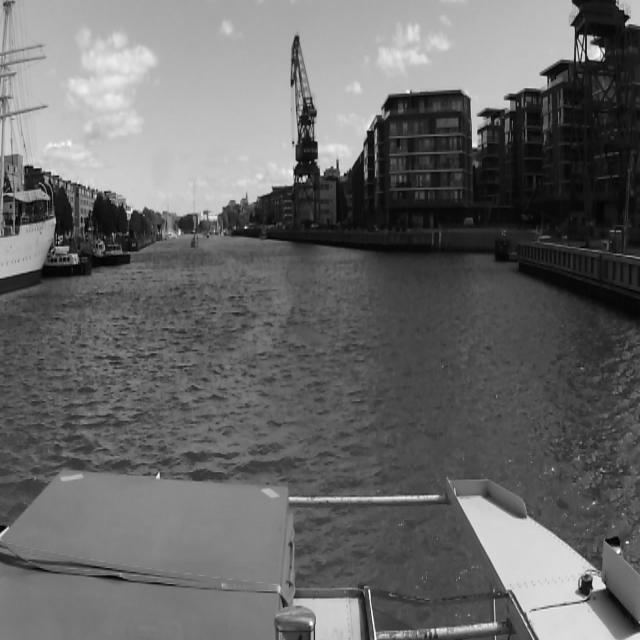ship: (0, 0, 56, 297), (84, 235, 106, 262), (190, 179, 198, 249)
